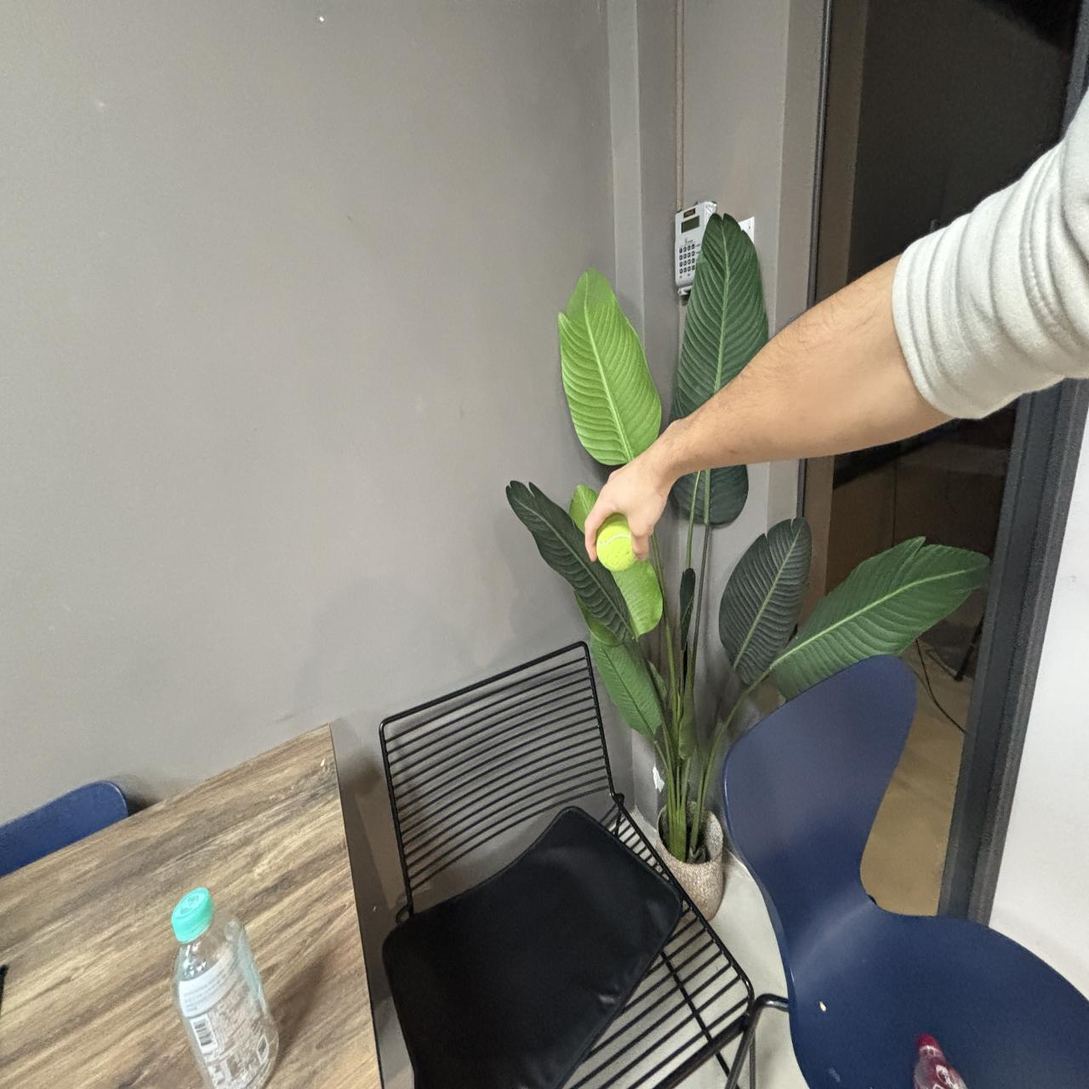plastic-bottle: (172, 889, 277, 1088)
tennisball: (596, 513, 635, 571)
